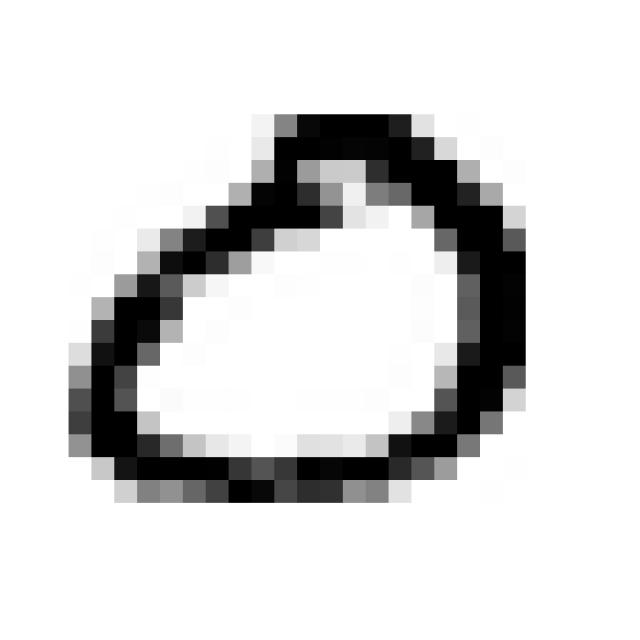5 -five-: (50, 96, 543, 513)
